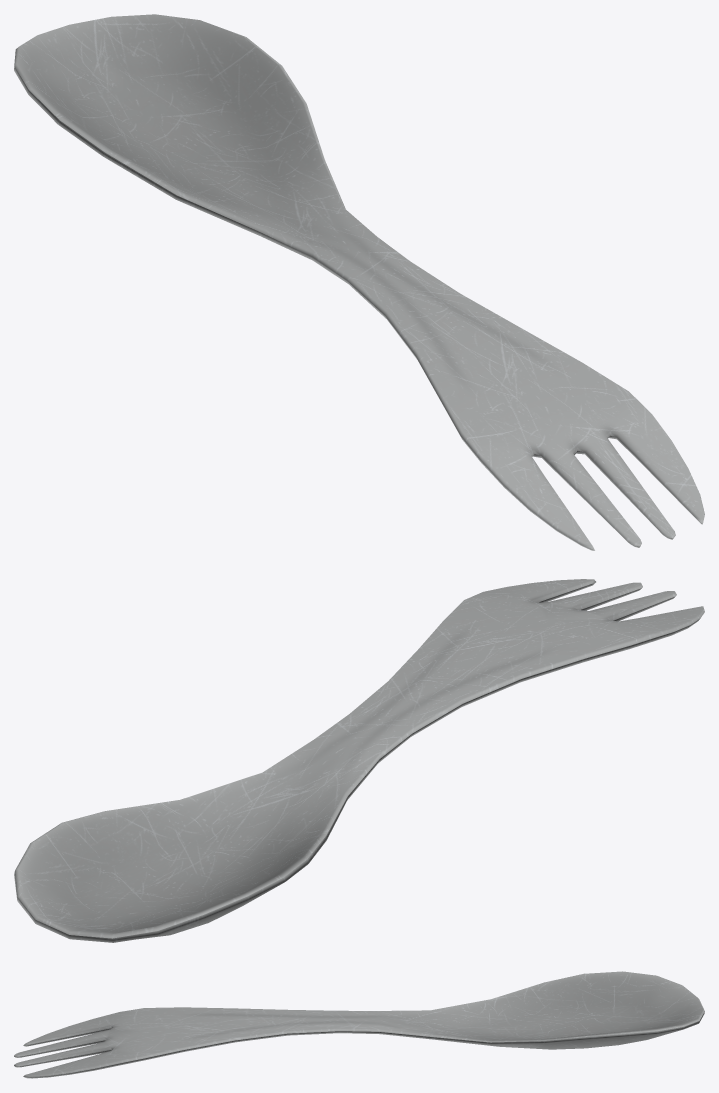
File: Spoon.fbx
The picture shows the model from 3 angles, top to bottom: view 1: azimuth 30°, elevation 25°; view 2: azimuth 150°, elevation 25°; view 3: azimuth 270°, elevation 25°; orthographic projection. The views are drawn at different scales.
Visible parts, largest first — view 1: Spoon; view 2: Spoon; view 3: Spoon.
Boxes of the visible parts, x1,y1,x2,y2 form: Spoon: (14, 14, 704, 550); Spoon: (14, 579, 704, 942); Spoon: (14, 971, 704, 1078).
Size of the model in its own units: 2.63 by 1.15 by 11.88.
